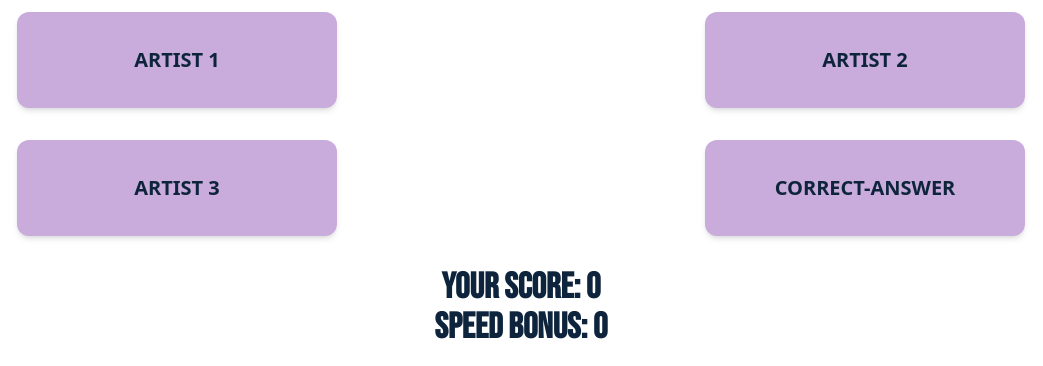
Test case: Answer › Score is updated to 100 when correct answer is clicked, bonus of 50 points if less than 5 seconds
Click the button "correct-answer" at (865, 188), box x1=705 y1=140 x2=1025 y2=236
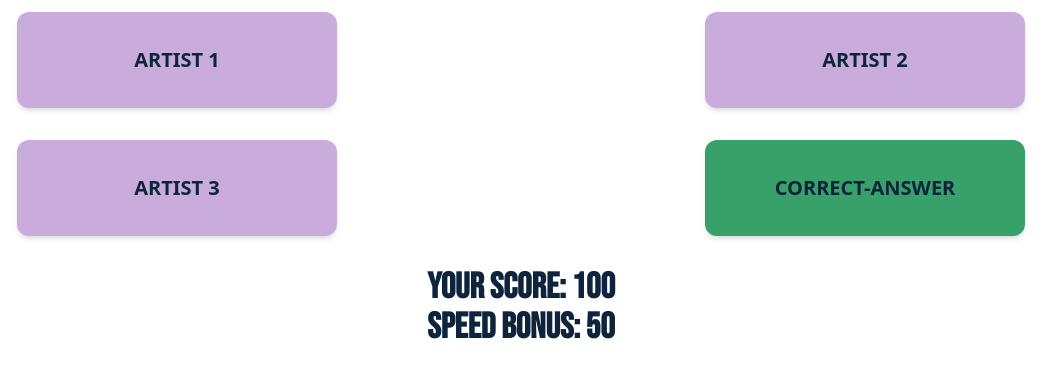
Check: the text "Your Score: 100" is shown, box x1=427 y1=266 x2=615 y2=309
Check: the text "Speed Bonus: 50" is shown, box x1=427 y1=306 x2=615 y2=349
